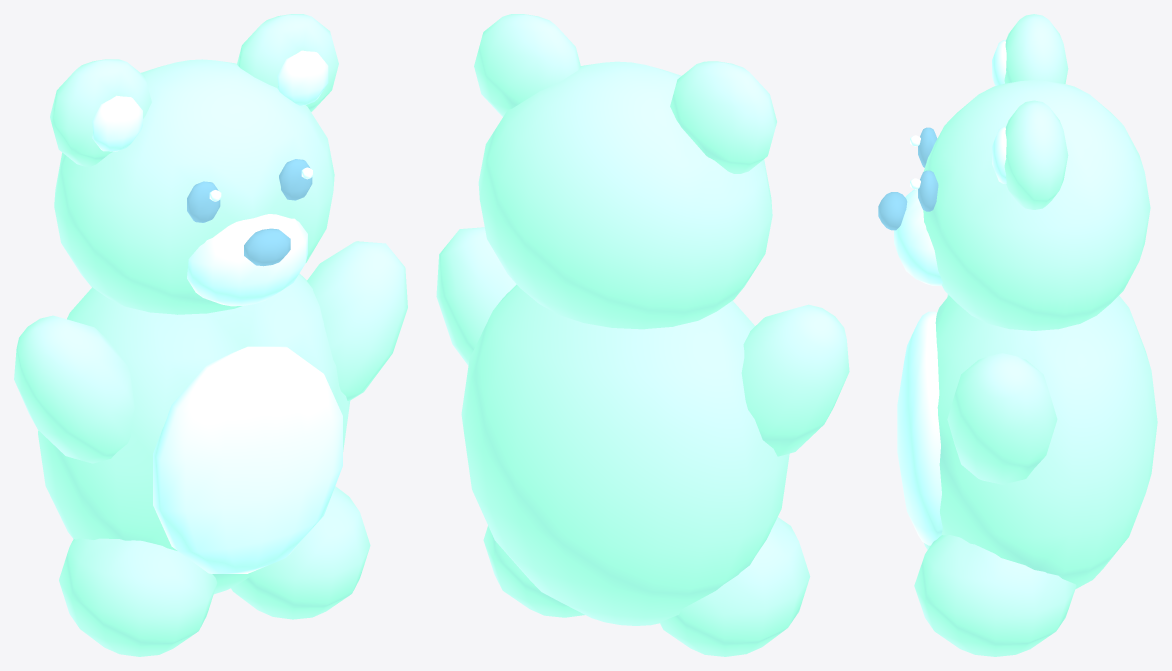
The model's file is props__CandyGummyBear.glb.
3 renders of one model, left to right at view 1: azimuth 30°, elevation 25°; view 2: azimuth 150°, elevation 25°; view 3: azimuth 270°, elevation 25°, orthographic. The views are drawn at different scales.
Parts seen in each view (by area): view 1: CandyGummyBear; view 2: CandyGummyBear; view 3: CandyGummyBear.
Boxes of the visible parts, x1,y1,x2,y2 form: CandyGummyBear: (14, 14, 407, 656); CandyGummyBear: (436, 14, 849, 656); CandyGummyBear: (878, 14, 1157, 656).
Bounding box in the file's own units: 5.95 × 8.63 × 3.96.
